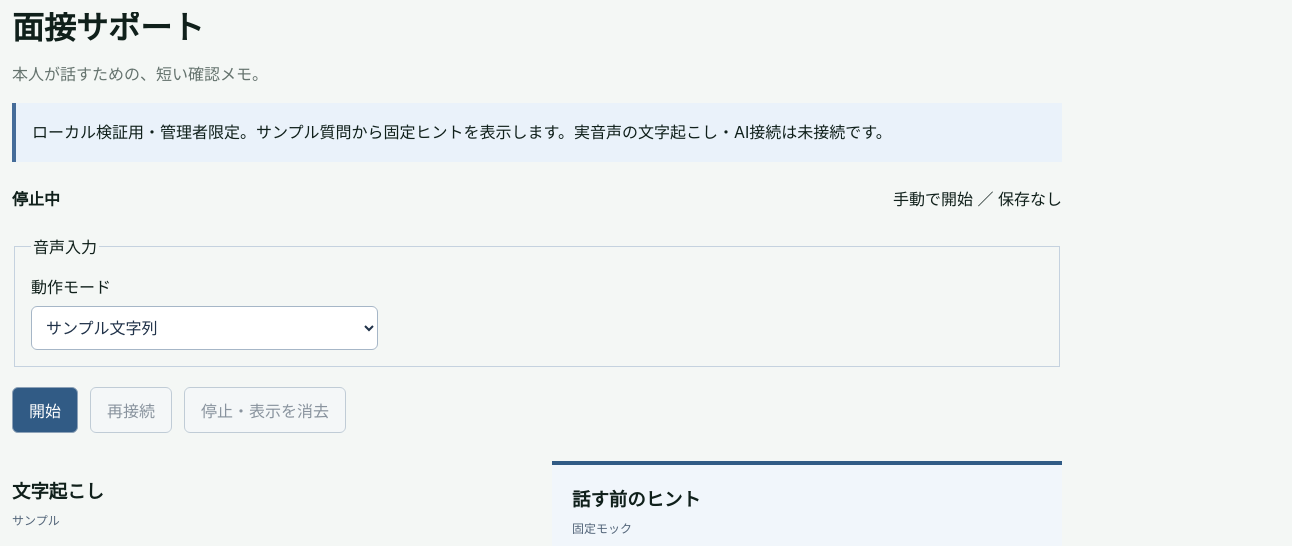
Test: interview panel lifecycle › shows a timeout and allows a manual reconnect without automatic capture
The image size is (1292, 546).
What coordinates should you click on to do the following:
click the button "開始"
I would click on:
 (45, 410)
Its box is left=12, top=387, right=78, bottom=433.
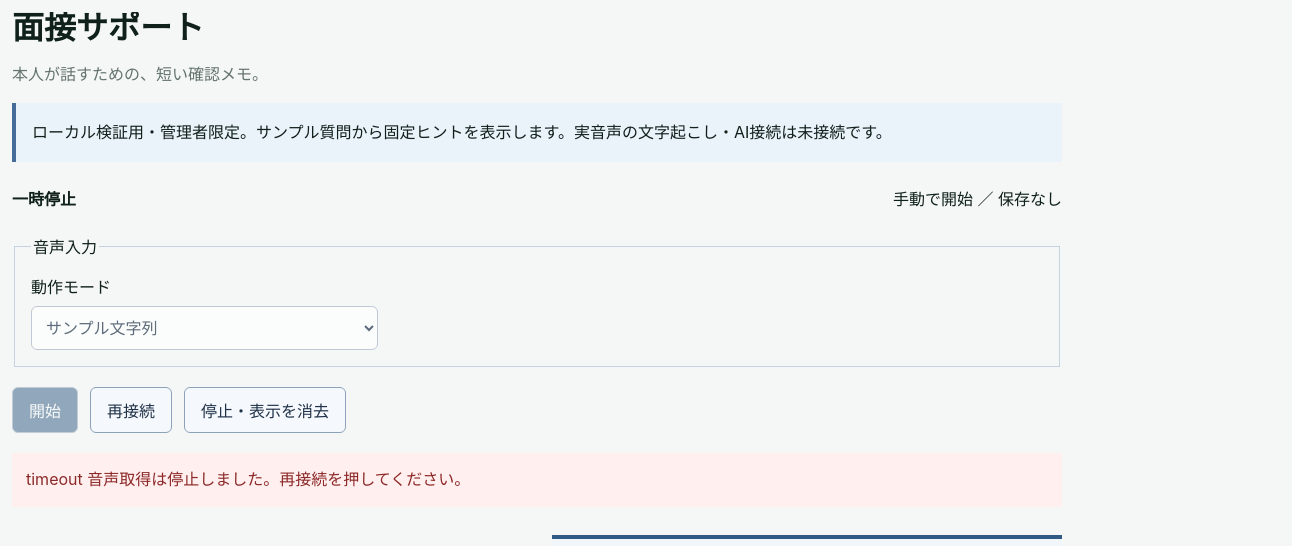
Expected: the text "一時停止" is shown, left=12, top=186, right=76, bottom=210
Expected: the message "timeout 音声取得は停止しました。再接続を押してください。" is shown, left=12, top=453, right=1062, bottom=507
What coordinates should you click on to do the following:
click the button "再接続"
I would click on:
 (131, 410)
Its box is left=90, top=387, right=172, bottom=433.
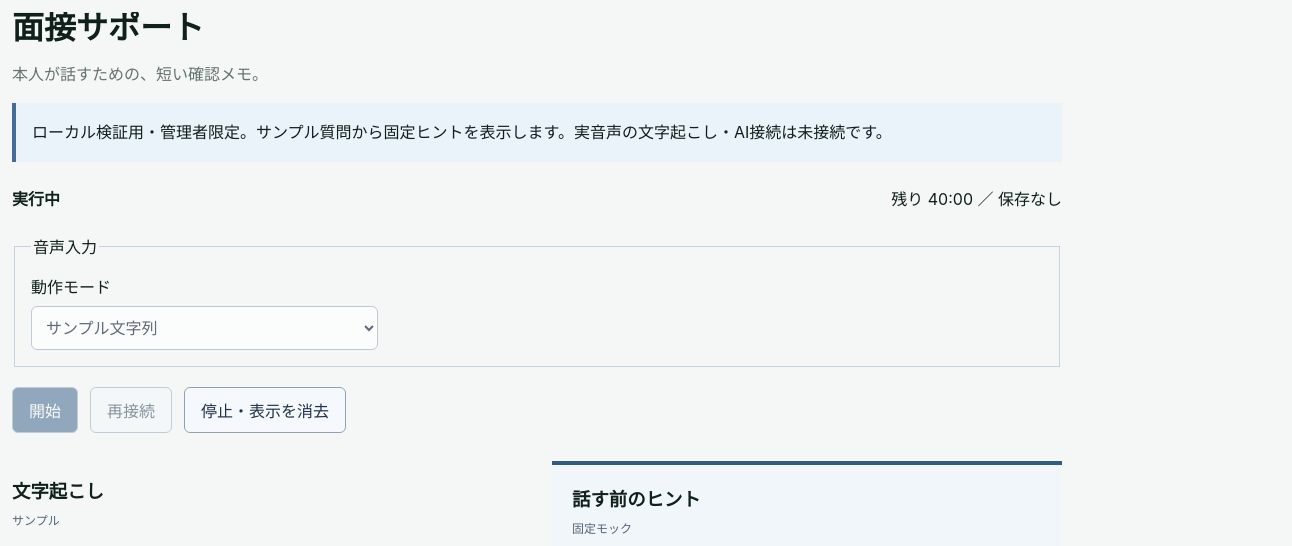
Expected: the text "実行中" is shown, left=12, top=186, right=60, bottom=210
